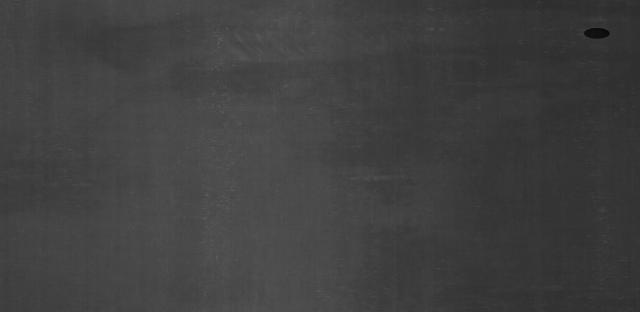punching_hole: (578, 23, 612, 43)
